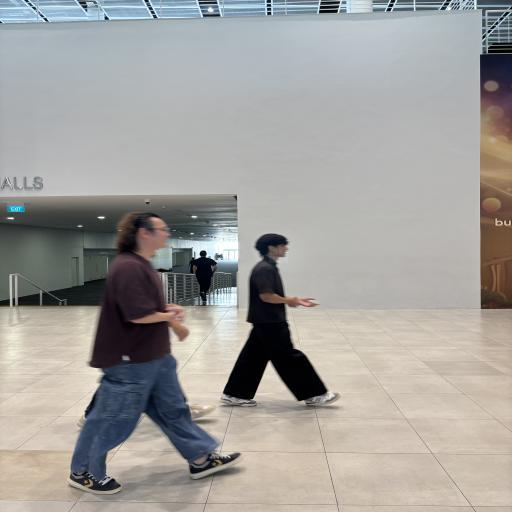person_right: (84, 205, 250, 491), (233, 226, 344, 410)
